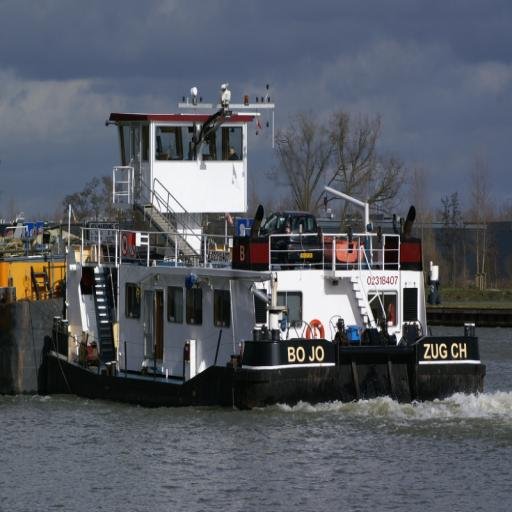tugboat: (43, 80, 489, 421)
